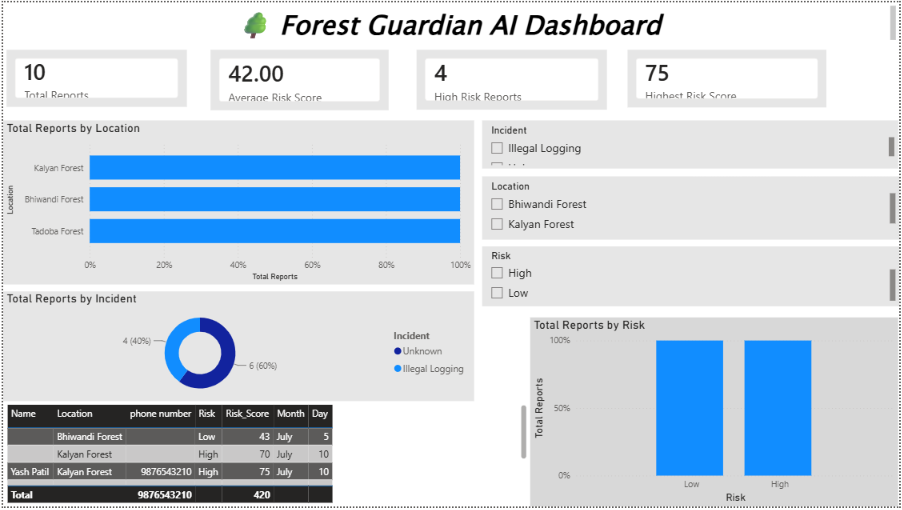

What the dashboard file says about the page in this screenshot:
{"tool":"powerbi","page":{"name":"Page 1","canvas":[1280,720],"ordinal":0},"visuals":[{"type":"textbox","box":[0,0,1280.3,63.1],"z":0},{"type":"cardVisual","fields":{"Data":["sheet4.Total Reports"]},"box":[0,63.1,267.6,91.9],"z":1000},{"type":"cardVisual","fields":{"Data":["sheet4.Average Risk Score"]},"box":[290.9,63.1,264.8,96.1],"z":2000},{"type":"cardVisual","fields":{"Data":["sheet4.High Risk Reports"]},"box":[585.7,62.9,282.9,95.7],"z":3000},{"type":"cardVisual","fields":{"Data":["sheet4.Highest Risk Score"]},"box":[887.1,62.9,294.3,92.9],"z":4000},{"type":"hundredPercentStackedBarChart","fields":{"Category":["sheet4.Location"],"Y":["sheet4.Total Reports"]},"box":[0,168.6,672.9,234.3],"z":5000},{"type":"donutChart","fields":{"Category":["sheet4.Incident"],"Y":["sheet4.Total Reports"]},"box":[0,412.9,672.9,157.1],"z":6000},{"type":"tableEx","fields":{"Values":["sheet4.Name","sheet4.Location","Sum(sheet4.phone number)","sheet4.Risk","Sum(sheet4.Risk_Score)","sheet4.Timestamp.Variation.Date Hierarchy.Month","sheet4.Timestamp.Variation.Date Hierarchy.Day"]},"box":[0,570,672.9,150],"z":7000},{"type":"hundredPercentStackedColumnChart","fields":{"Category":["sheet4.Risk"],"Y":["sheet4.Total Reports"]},"box":[684.3,450,594.3,270],"z":8000},{"type":"slicer","fields":{"Values":["sheet4.Incident"]},"box":[684.7,168.8,594.2,68.6],"z":9000},{"type":"slicer","fields":{"Values":["sheet4.Location"]},"box":[684.3,248.6,594.3,90],"z":10000},{"type":"slicer","fields":{"Values":["sheet4.Risk"]},"box":[684.3,348.6,595.7,85.7],"z":11000}]}

Visuals, with their boxes in screenshot pixels (x1, y1, x2, y2), scaled from the page's 1280x720 canvas onto the 902x510 screenshot:
textbox: <bbox>0, 0, 901, 45</bbox>
cardVisual - sheet4.Total Reports: <bbox>0, 45, 189, 110</bbox>
cardVisual - sheet4.Average Risk Score: <bbox>205, 45, 392, 113</bbox>
cardVisual - sheet4.High Risk Reports: <bbox>413, 45, 612, 112</bbox>
cardVisual - sheet4.Highest Risk Score: <bbox>625, 45, 833, 110</bbox>
hundredPercentStackedBarChart - sheet4.Location x sheet4.Total Reports: <bbox>0, 119, 474, 285</bbox>
donutChart - sheet4.Incident x sheet4.Total Reports: <bbox>0, 292, 474, 404</bbox>
tableEx - sheet4.Name x sheet4.Location: <bbox>0, 404, 474, 509</bbox>
hundredPercentStackedColumnChart - sheet4.Risk x sheet4.Total Reports: <bbox>482, 319, 901, 509</bbox>
slicer - sheet4.Incident: <bbox>482, 120, 901, 168</bbox>
slicer - sheet4.Location: <bbox>482, 176, 901, 240</bbox>
slicer - sheet4.Risk: <bbox>482, 247, 901, 308</bbox>
